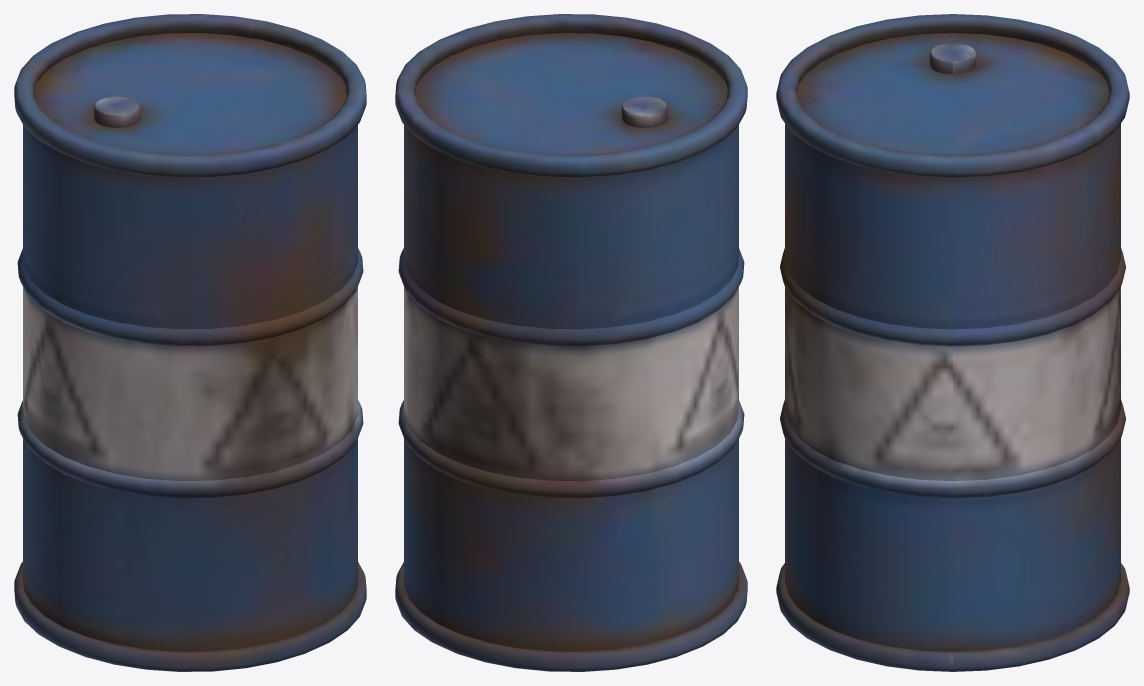
File: hazard-drum--2.gltf
3 renders of one model, left to right at view 1: azimuth 30°, elevation 25°; view 2: azimuth 150°, elevation 25°; view 3: azimuth 270°, elevation 25°, orthographic.
Visible parts, largest first — view 1: Cylinder.061; view 2: Cylinder.061; view 3: Cylinder.061.
Boxes of the visible parts, bbox=[...] form: Cylinder.061: bbox=[14, 14, 366, 671]; Cylinder.061: bbox=[395, 14, 747, 671]; Cylinder.061: bbox=[776, 14, 1129, 671].
Size of the model in its own units: 0.5621 by 0.9 by 0.5621.
Materials: 1 (1 with a texture image).
